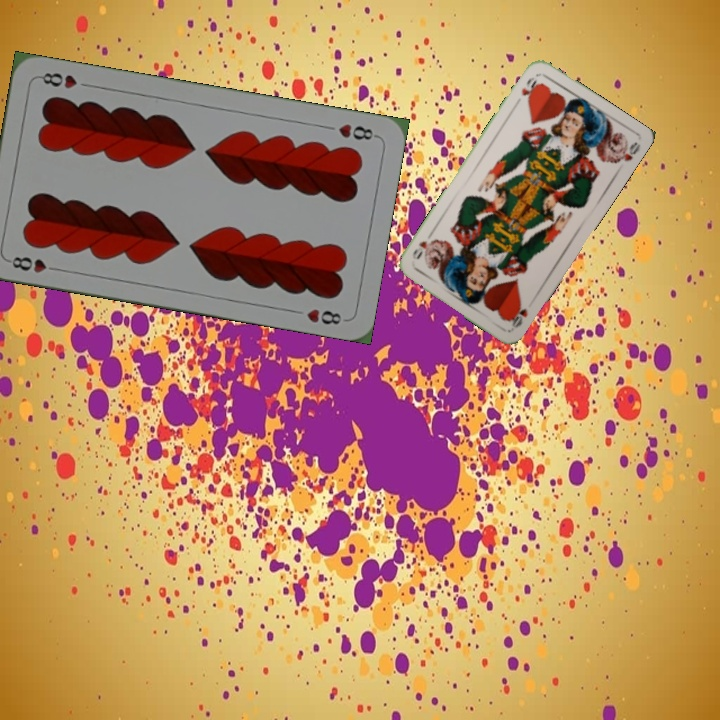H8: (4, 252, 63, 275), (334, 120, 380, 143)
HO: (506, 299, 530, 331), (517, 73, 541, 104)
